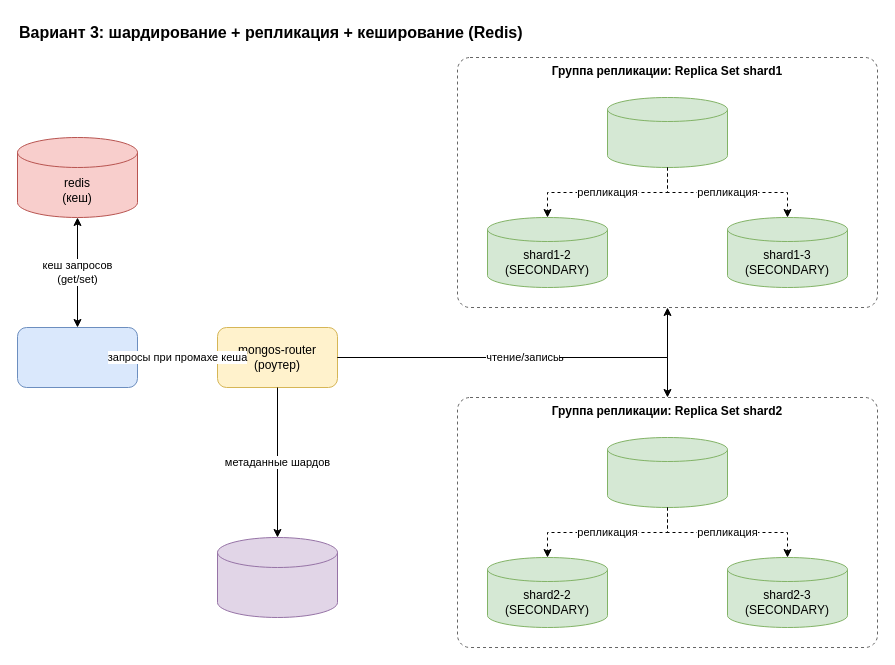
Image size: 895x665. Some labels were removed from this diagram. The centre of each missing label's shape, as x and y in pixels:
"configSrv (config server)" goes at (x=277, y=577).
"pymongo-api (приложение)" goes at (x=77, y=357).
"shard1-1 (PRIMARY)" goes at (x=667, y=132).
"shard2-1 (PRIMARY)" goes at (x=667, y=472).
